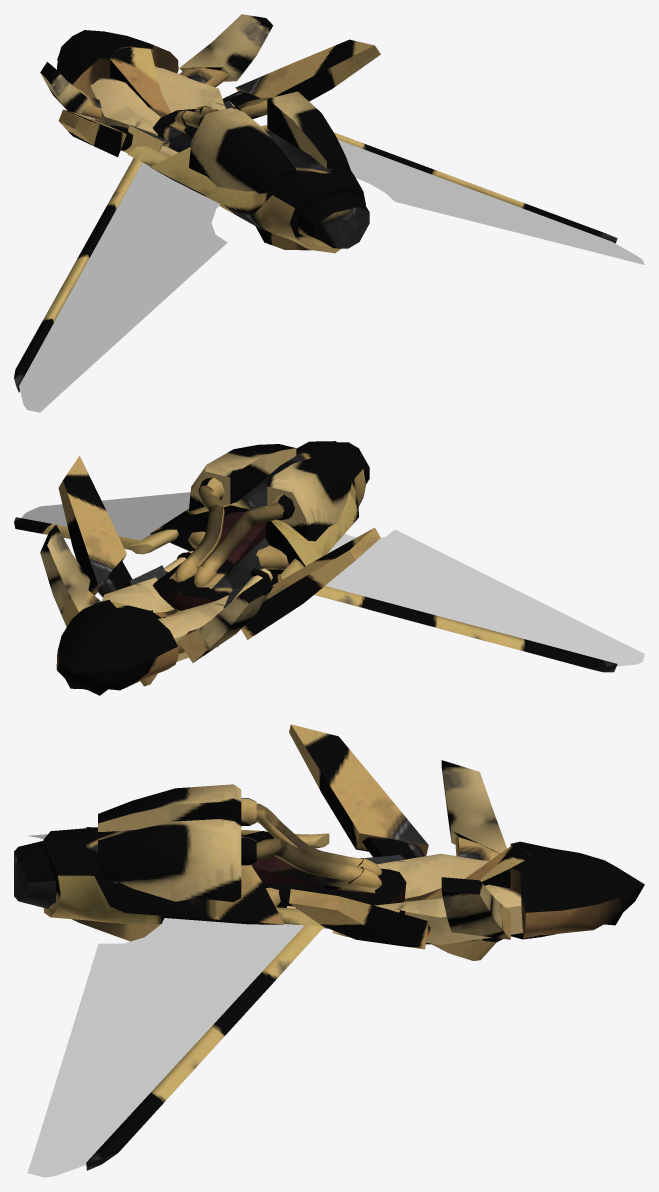
The model's file is ship19c.fbx.
3 renders of one model, top to bottom at view 1: azimuth 30°, elevation 25°; view 2: azimuth 150°, elevation 25°; view 3: azimuth 270°, elevation 25°, orthographic. The views are drawn at different scales.
Parts seen in each view (by area): view 1: PipelineFBX0, PipelineFBX1; view 2: PipelineFBX0, PipelineFBX1; view 3: PipelineFBX0, PipelineFBX1.
Part boxes in pixels (bbox=[...]): PipelineFBX0: bbox=[14, 14, 617, 392]; PipelineFBX1: bbox=[19, 140, 644, 412]; PipelineFBX0: bbox=[14, 441, 617, 695]; PipelineFBX1: bbox=[22, 492, 644, 666]; PipelineFBX0: bbox=[14, 724, 644, 1170]; PipelineFBX1: bbox=[27, 834, 304, 1177].
Size of the model in its own units: 37114 by 10056 by 28836.
